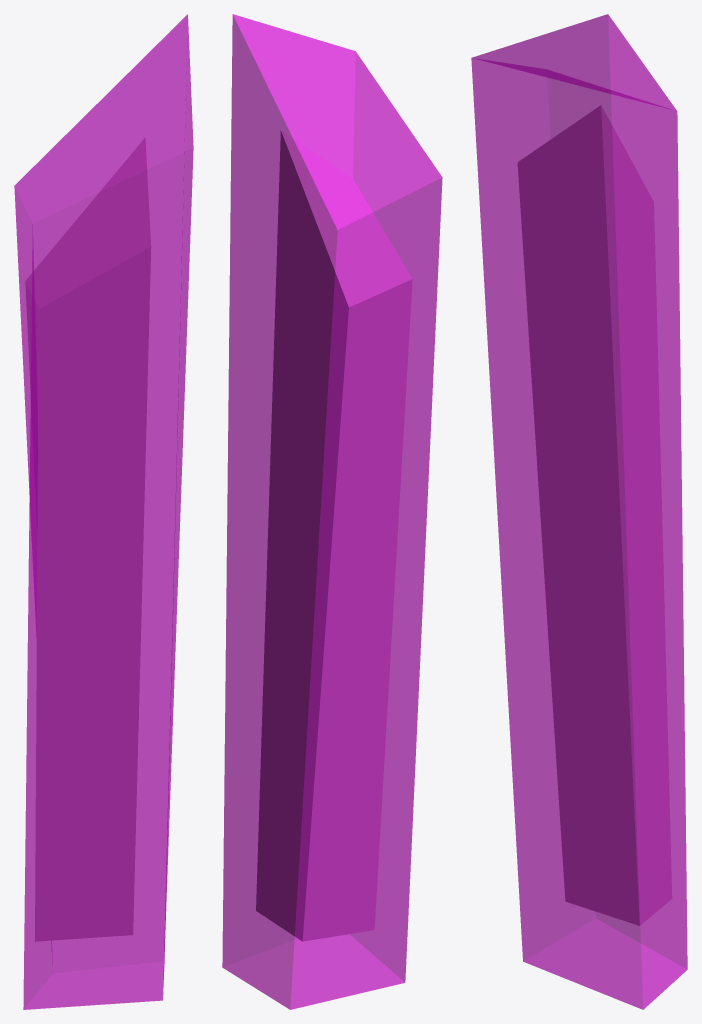
Rendered from crystal6.fbx.
3 renders of one model, left to right at view 1: azimuth 30°, elevation 25°; view 2: azimuth 150°, elevation 25°; view 3: azimuth 270°, elevation 25°, orthographic. The views are drawn at different scales.
Parts seen in each view (by area): view 1: pCube36; view 2: pCube36; view 3: pCube36.
Part boxes in pixels (left/top/right/bottom): pCube36: left=14, top=14, right=193, bottom=1009; pCube36: left=222, top=14, right=442, bottom=1009; pCube36: left=471, top=14, right=687, bottom=1009.
Bounding box in the file's own units: 2.71 × 13.51 × 2.64.
